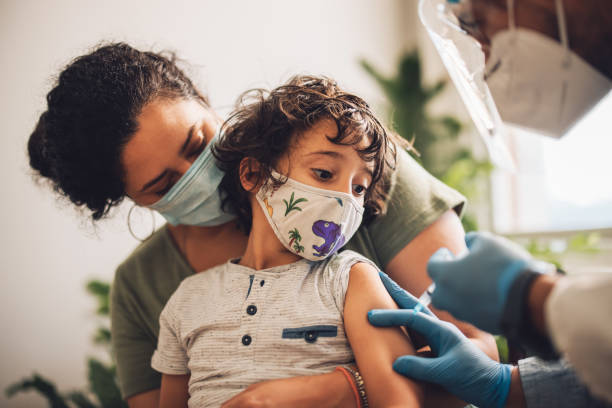with mask: (450, 1, 612, 144), (238, 109, 377, 260), (104, 82, 243, 233)
